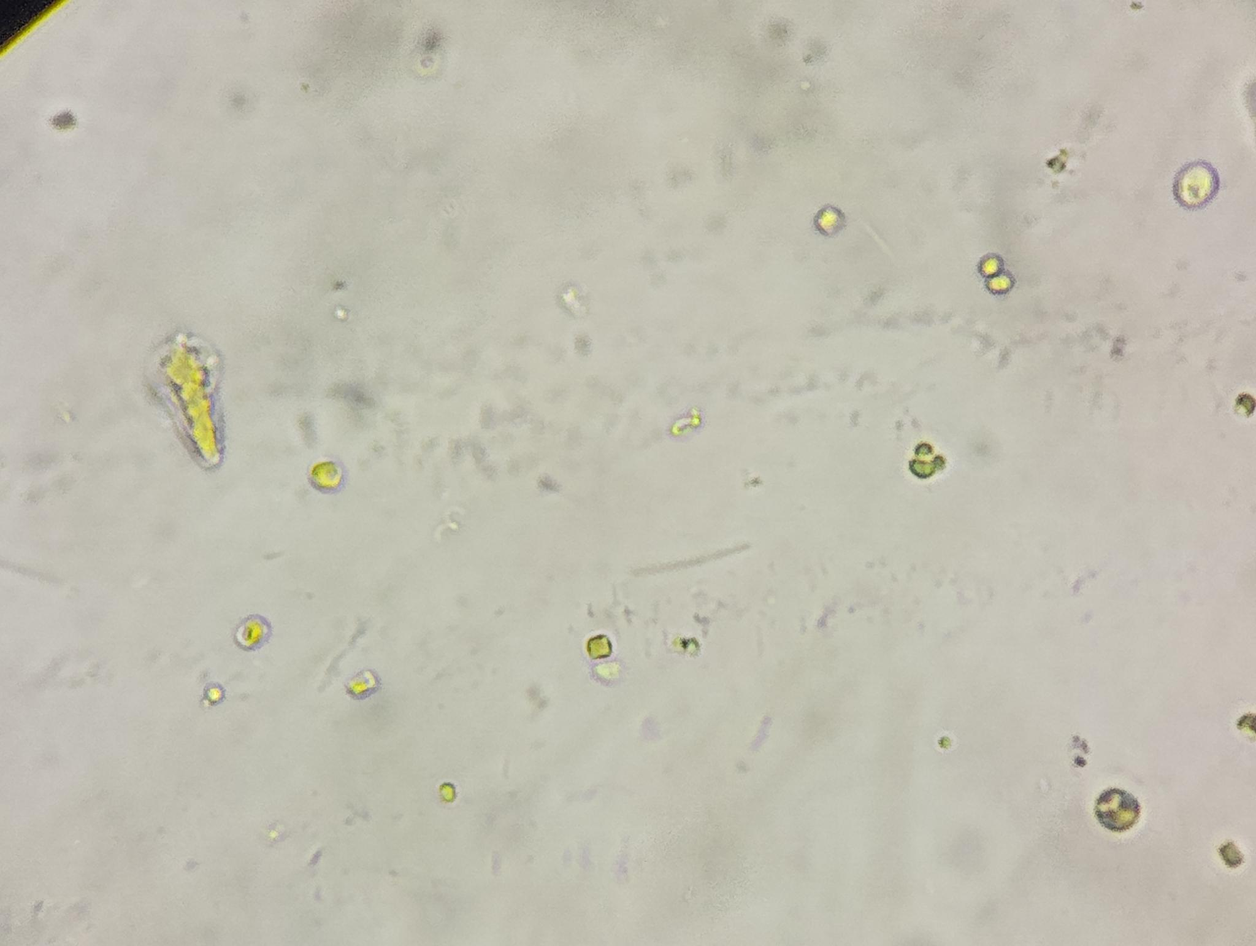Euglena: (123, 327, 248, 484)
